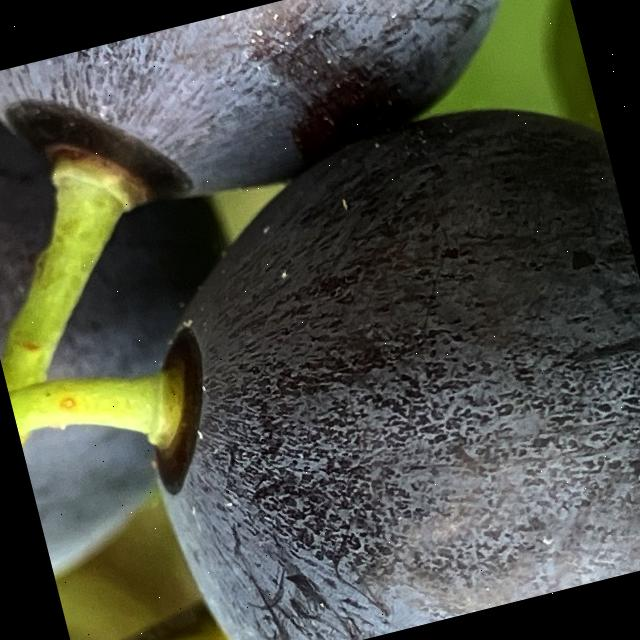Blueberries: (84, 76, 640, 640), (0, 0, 578, 261)
